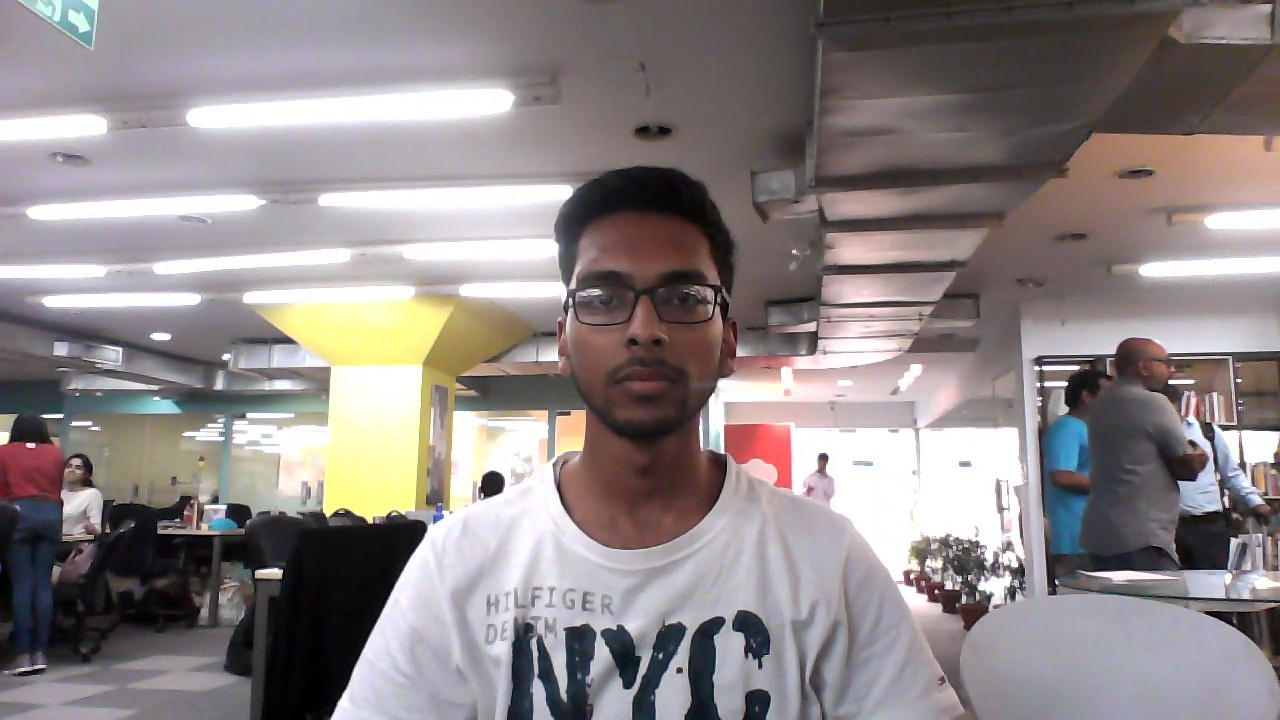open: (547, 161, 748, 451)
